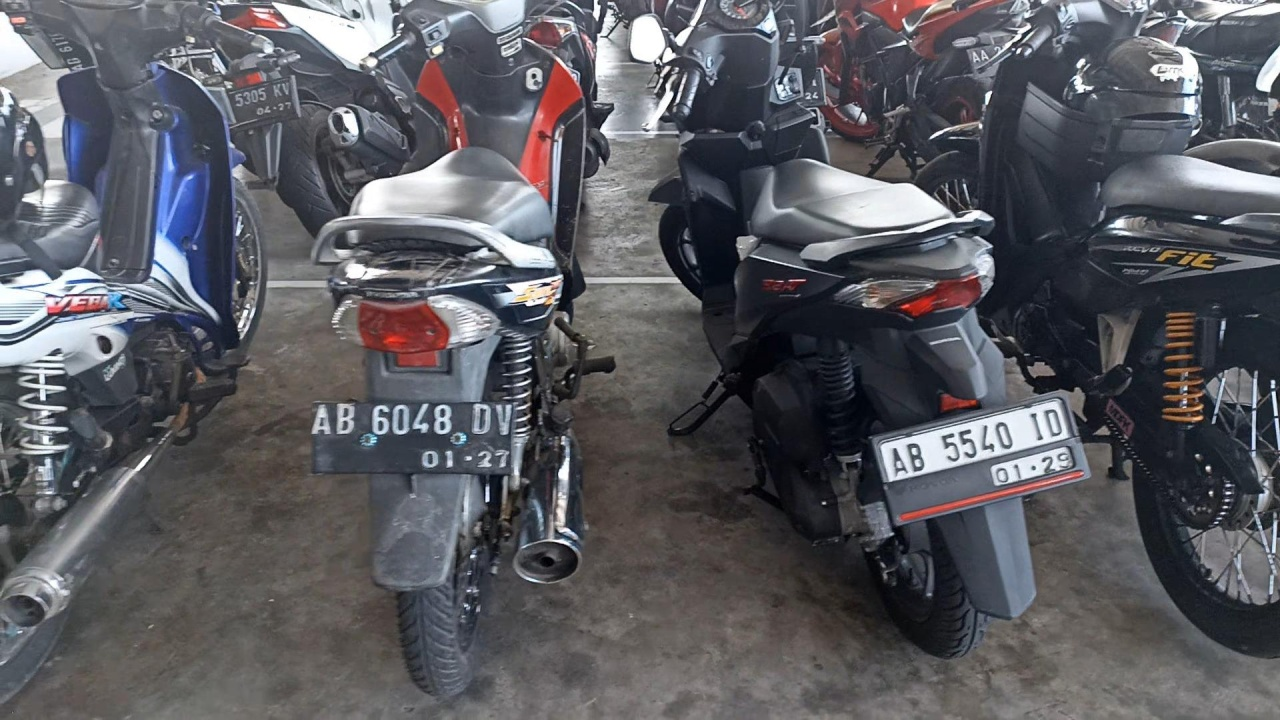plate: (876, 394, 1088, 523), (313, 399, 514, 473)
